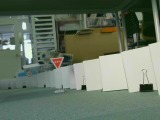stop: (50, 56, 63, 70)
